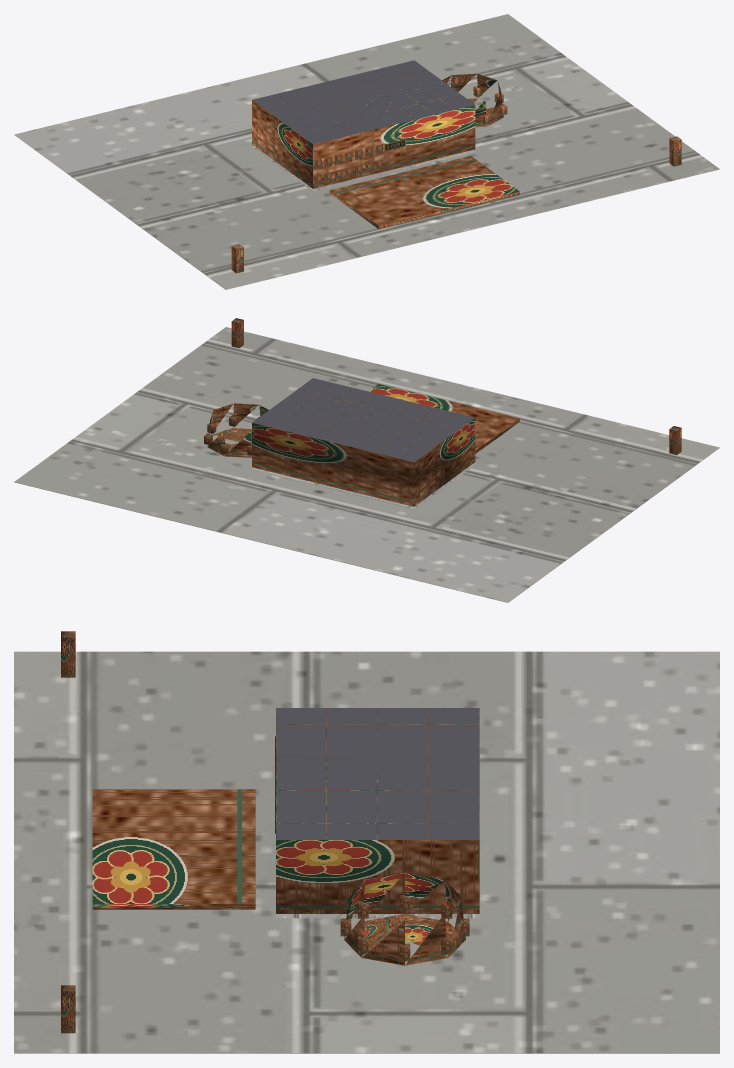
3 renders of one model, top to bottom at view 1: azimuth 30°, elevation 25°; view 2: azimuth 150°, elevation 25°; view 3: azimuth 270°, elevation 25°, orthographic. The views are drawn at different scales.
Parts seen in each view (by area): view 1: 11710_01_05540_018_01_L2__base, 11710_01_05540_018_02_L2__body, 11710_01_05540_018_03_L2__roof, 11710_01_05540_018_05_L2__openings, 11710_01_05540_018_06_L2__green; view 2: 11710_01_05540_018_01_L2__base, 11710_01_05540_018_02_L2__body, 11710_01_05540_018_03_L2__roof, 11710_01_05540_018_06_L2__green; view 3: 11710_01_05540_018_01_L2__base, 11710_01_05540_018_02_L2__body, 11710_01_05540_018_03_L2__roof, 11710_01_05540_018_06_L2__green.
Boxes of the visible parts, x1,y1,x2,y2 form: 11710_01_05540_018_01_L2__base: [14, 14, 719, 289]; 11710_01_05540_018_02_L2__body: [252, 65, 519, 228]; 11710_01_05540_018_03_L2__roof: [252, 60, 474, 144]; 11710_01_05540_018_05_L2__openings: [314, 144, 382, 185]; 11710_01_05540_018_06_L2__green: [231, 136, 681, 273]; 11710_01_05540_018_01_L2__base: [14, 327, 719, 602]; 11710_01_05540_018_02_L2__body: [204, 384, 519, 506]; 11710_01_05540_018_03_L2__roof: [252, 378, 474, 461]; 11710_01_05540_018_06_L2__green: [231, 318, 681, 454]; 11710_01_05540_018_01_L2__base: [14, 651, 719, 1053]; 11710_01_05540_018_02_L2__body: [92, 708, 479, 965]; 11710_01_05540_018_03_L2__roof: [276, 708, 479, 839]; 11710_01_05540_018_06_L2__green: [61, 631, 75, 1033].
Bounding box in the file's own units: 140 × 12.82 × 104.
5 materials, 5 textured.
